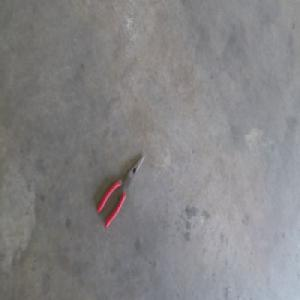Pliers: (96, 153, 143, 226)
